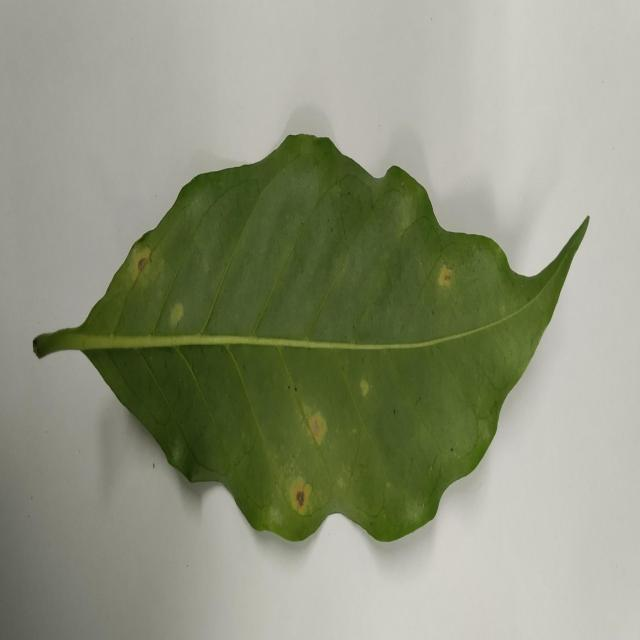Enfermedad-Roya: (31, 131, 588, 546)
